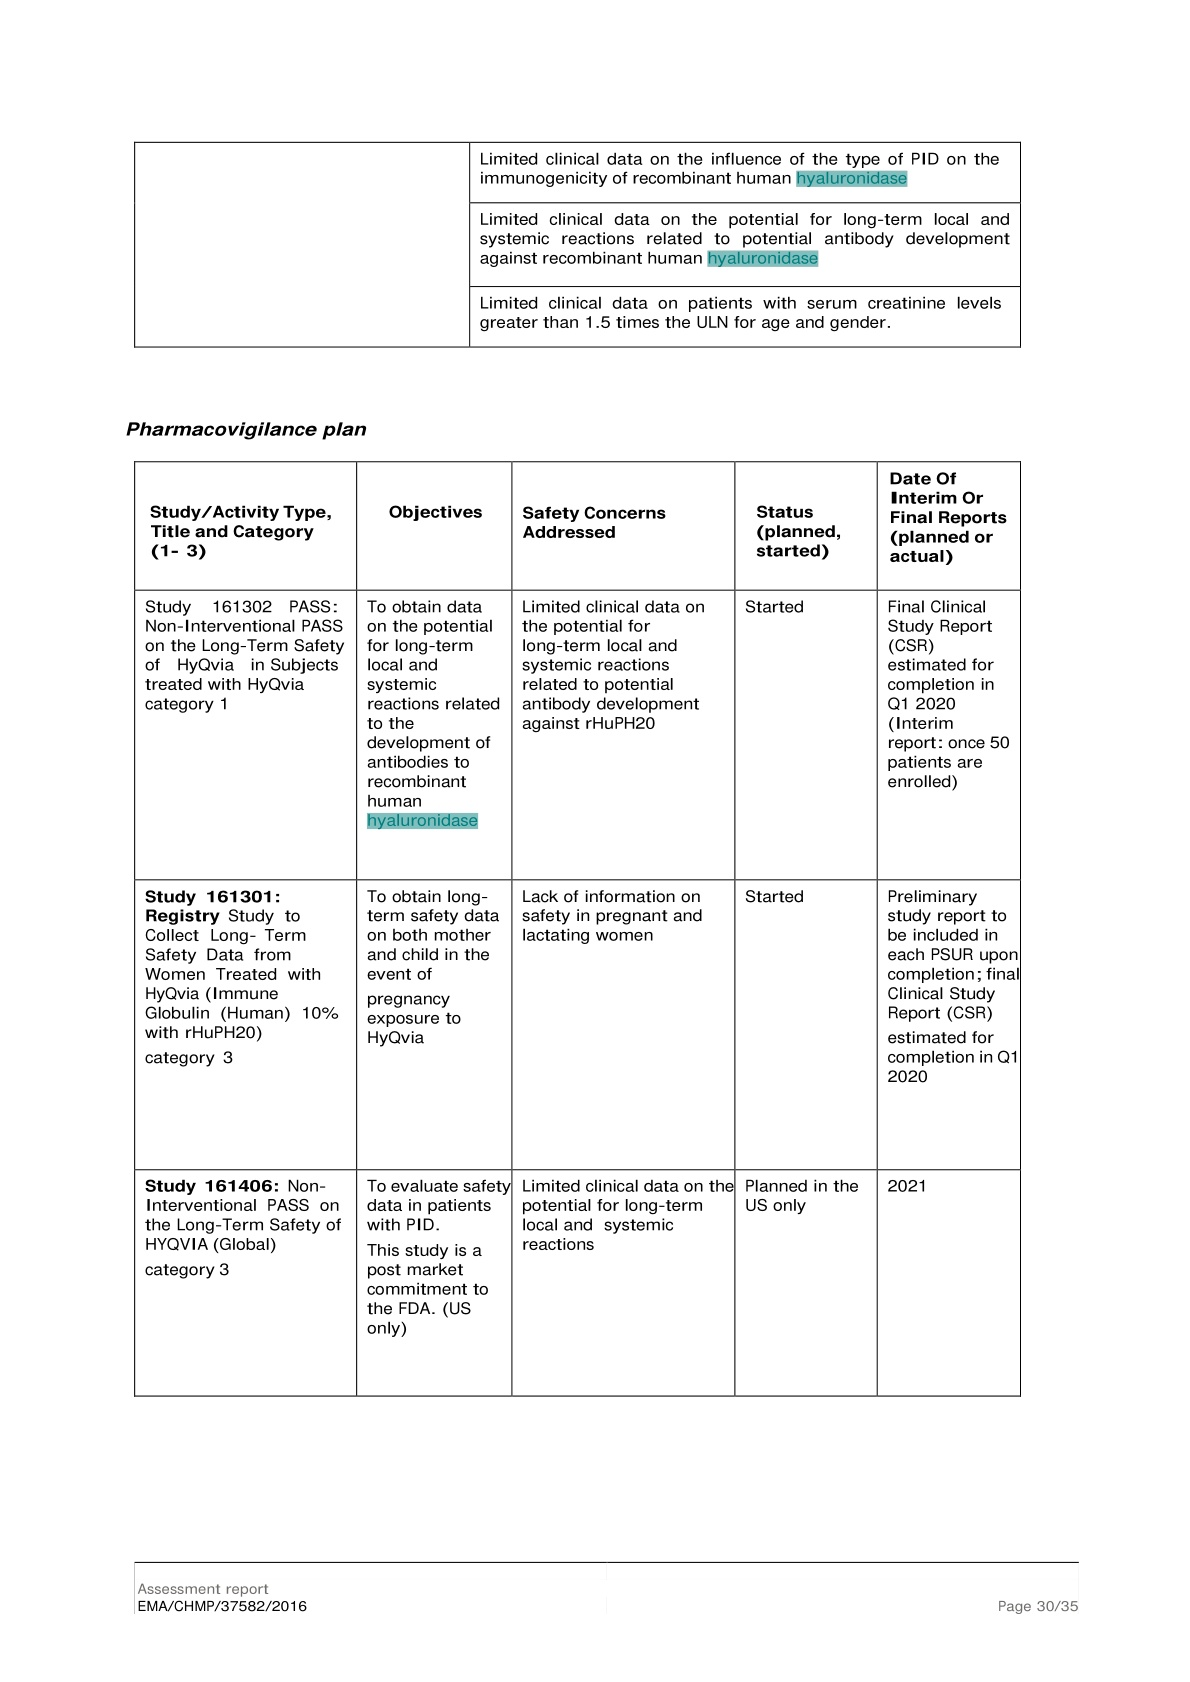full_lined: (133, 458, 1023, 1397)
merged_cells: (133, 140, 1023, 348)
